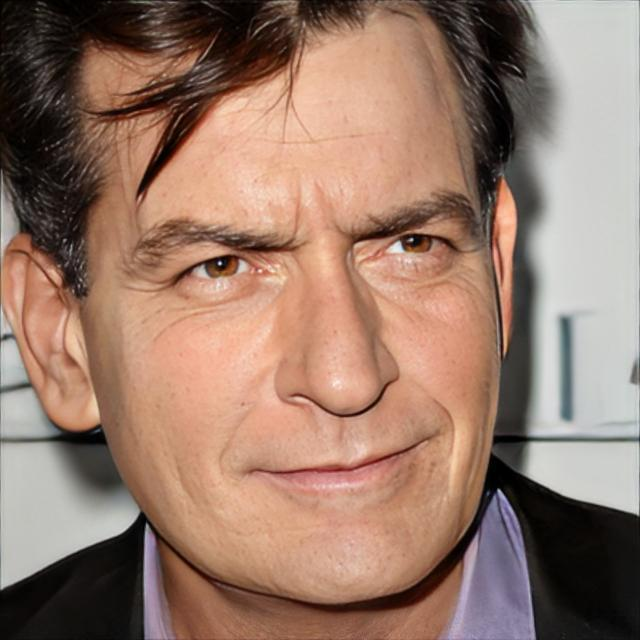content: (78, 0, 503, 606)
